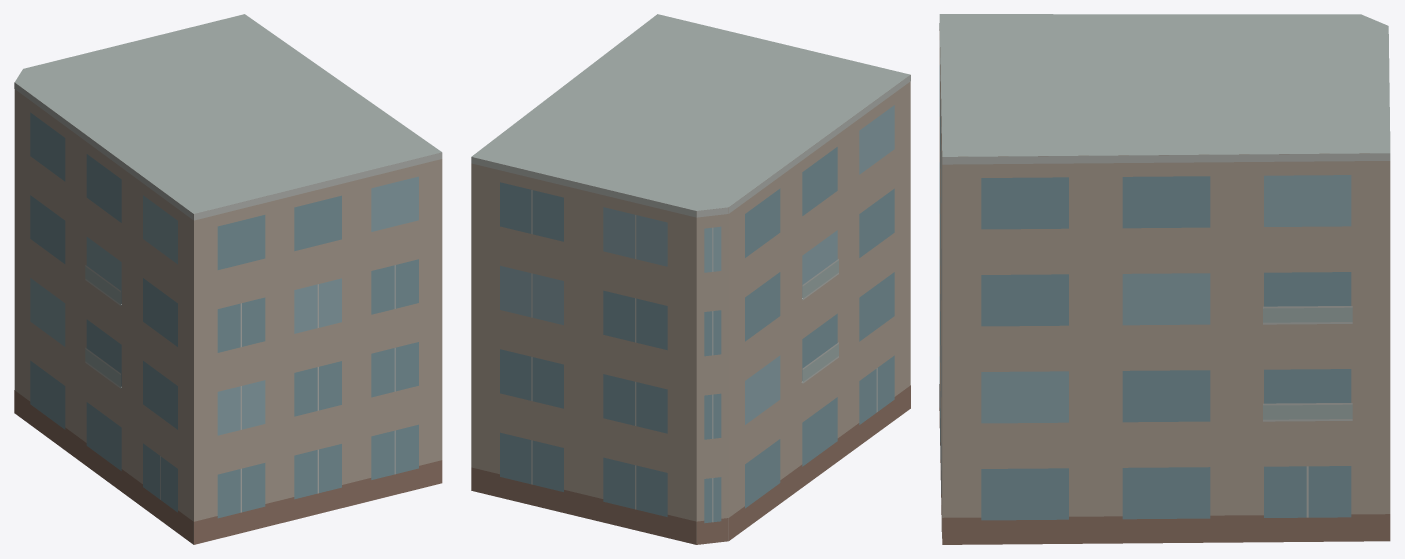
The model's file is survey-upis-32570900.glb.
The picture shows the model from 3 angles, left to right: view 1: azimuth 30°, elevation 25°; view 2: azimuth 150°, elevation 25°; view 3: azimuth 270°, elevation 25°; orthographic projection. The views are drawn at different scales.
Parts seen in each view (by area): view 1: survey-upis-32570900.tmp; view 2: survey-upis-32570900.tmp; view 3: survey-upis-32570900.tmp.
Part boxes in pixels (x1,y1,x2,y2): survey-upis-32570900.tmp: [14, 14, 442, 544]; survey-upis-32570900.tmp: [471, 14, 910, 544]; survey-upis-32570900.tmp: [939, 14, 1390, 544].
Bounding box in the file's own units: 9.79 × 12.35 × 13.02.
